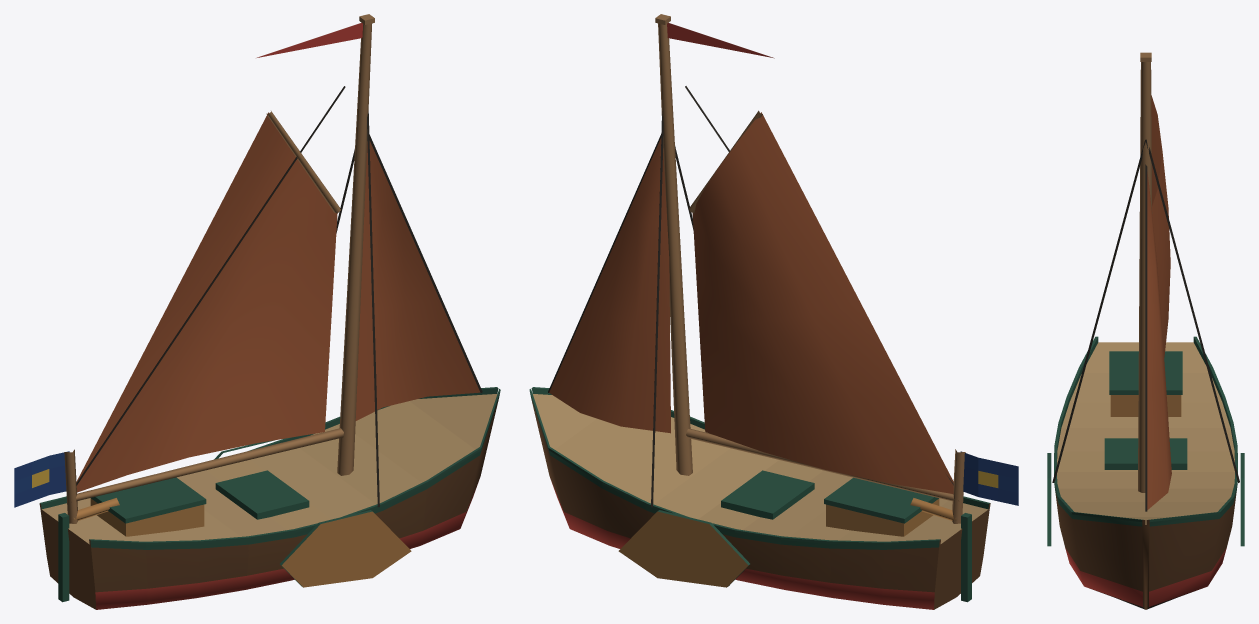
The model's file is hull_eur_botter_small.glb.
The picture shows the model from 3 angles, left to right: view 1: azimuth 30°, elevation 25°; view 2: azimuth 150°, elevation 25°; view 3: azimuth 270°, elevation 25°; orthographic projection.
Parts seen in each view (by area): view 1: hull, sail_main, sail_jib, deck, mast, boom_spar, flag, rigging, gaff; view 2: sail_main, hull, sail_jib, deck, mast, flag, rigging, boom_spar; view 3: hull, sail_jib, deck, mast, rigging, sail_main.
Boxes of the visible parts, left/top/right/bottom form: hull: left=39, top=387, right=500, bottom=609; sail_main: left=76, top=112, right=337, bottom=492; sail_jib: left=355, top=141, right=480, bottom=420; deck: left=74, top=470, right=309, bottom=536; mast: left=64, top=14, right=374, bottom=523; boom_spar: left=71, top=86, right=345, bottom=502; flag: left=14, top=22, right=362, bottom=507; rigging: left=336, top=112, right=482, bottom=507; gaff: left=266, top=111, right=340, bottom=213; sail_main: left=692, top=112, right=953, bottom=493; hull: left=529, top=387, right=990, bottom=609; sail_jib: left=549, top=138, right=670, bottom=433; deck: left=721, top=470, right=956, bottom=536; mast: left=655, top=14, right=965, bottom=523; flag: left=667, top=22, right=1018, bottom=505; rigging: left=548, top=111, right=693, bottom=507; boom_spar: left=685, top=86, right=958, bottom=501; hull: left=1047, top=336, right=1244, bottom=609; sail_jib: left=1147, top=172, right=1171, bottom=509; deck: left=1104, top=351, right=1187, bottom=469; mast: left=1138, top=52, right=1152, bottom=492; rigging: left=1052, top=139, right=1239, bottom=511; sail_main: left=1151, top=95, right=1170, bottom=357.
Bounding box in the file's own units: 11.2 × 11.52 × 3.96.
